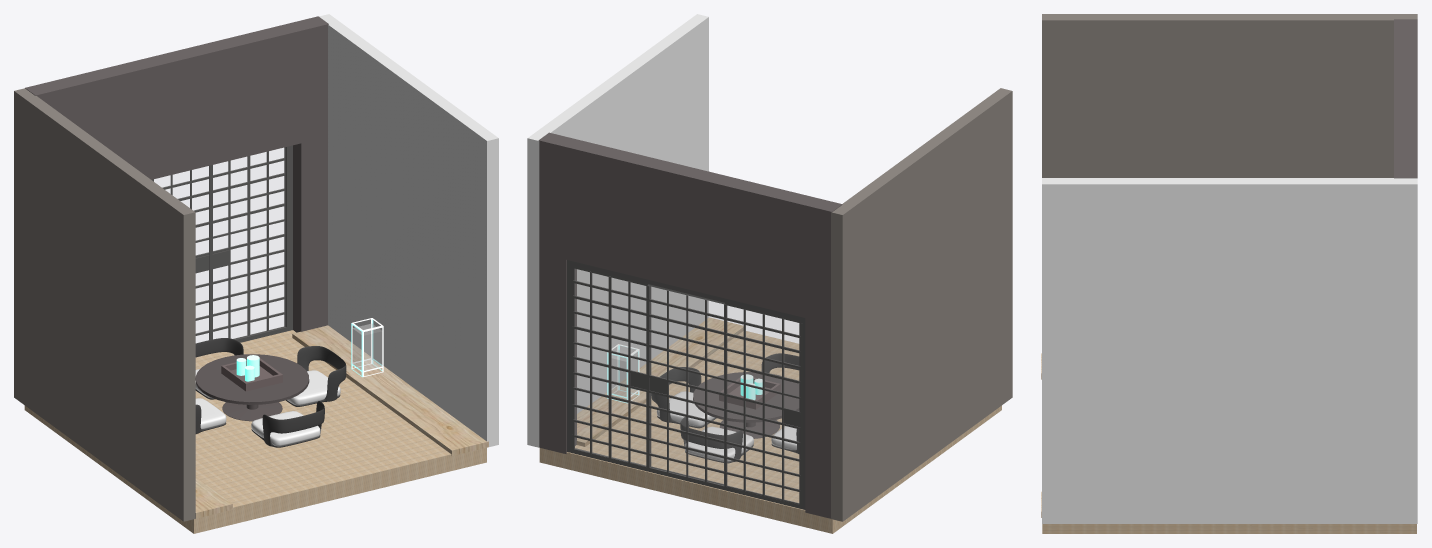
Rendered from realistic_room 3.glb.
3 views of the same model, side by side, from view 1: azimuth 30°, elevation 25°; view 2: azimuth 150°, elevation 25°; view 3: azimuth 270°, elevation 25° (orthographic). The views are drawn at different scales.
Parts seen in each view (by area): view 1: Object_2, Object_5, Object_10, Object_11, Object_13, Object_18, Object_14, Object_12, Object_17, Object_3, Object_8, Object_9 (+3 smaller); view 2: Object_2, Object_10, Object_13, Object_5, Object_14, Object_11, Object_3, Object_18, Object_12, Object_17, Object_7, Object_8 (+2 smaller); view 3: Object_5, Object_2, Object_10, Object_11.
Part boxes in pixels (x1=…): Object_2: x1=14, y1=88, x2=195, y2=521; Object_5: x1=319, y1=14, x2=498, y2=446; Object_10: x1=25, y1=16, x2=328, y2=332; Object_11: x1=24, y1=330, x2=486, y2=533; Object_13: x1=154, y1=148, x2=382, y2=370; Object_18: x1=195, y1=325, x2=488, y2=518; Object_14: x1=152, y1=147, x2=285, y2=339; Object_12: x1=195, y1=354, x2=309, y2=421; Object_17: x1=195, y1=369, x2=340, y2=446; Object_3: x1=234, y1=145, x2=292, y2=342; Object_8: x1=286, y1=346, x2=346, y2=406; Object_9: x1=251, y1=401, x2=324, y2=447; Object_2: x1=831, y1=88, x2=1012, y2=521; Object_10: x1=538, y1=132, x2=842, y2=518; Object_13: x1=575, y1=269, x2=798, y2=502; Object_5: x1=527, y1=14, x2=708, y2=447; Object_14: x1=572, y1=266, x2=802, y2=505; Object_11: x1=539, y1=331, x2=1001, y2=533; Object_3: x1=567, y1=260, x2=805, y2=509; Object_18: x1=576, y1=317, x2=743, y2=446; Object_12: x1=693, y1=372, x2=799, y2=438; Object_17: x1=656, y1=391, x2=796, y2=461; Object_7: x1=680, y1=417, x2=753, y2=463; Object_8: x1=651, y1=367, x2=716, y2=428; Object_5: x1=1042, y1=178, x2=1417, y2=523; Object_2: x1=1042, y1=14, x2=1417, y2=177; Object_10: x1=1394, y1=19, x2=1417, y2=178; Object_11: x1=1042, y1=524, x2=1416, y2=533.
Bounding box in the file's own units: 6.78 × 6.62 × 6.33.
Materials: 16 (2 with a texture image).
